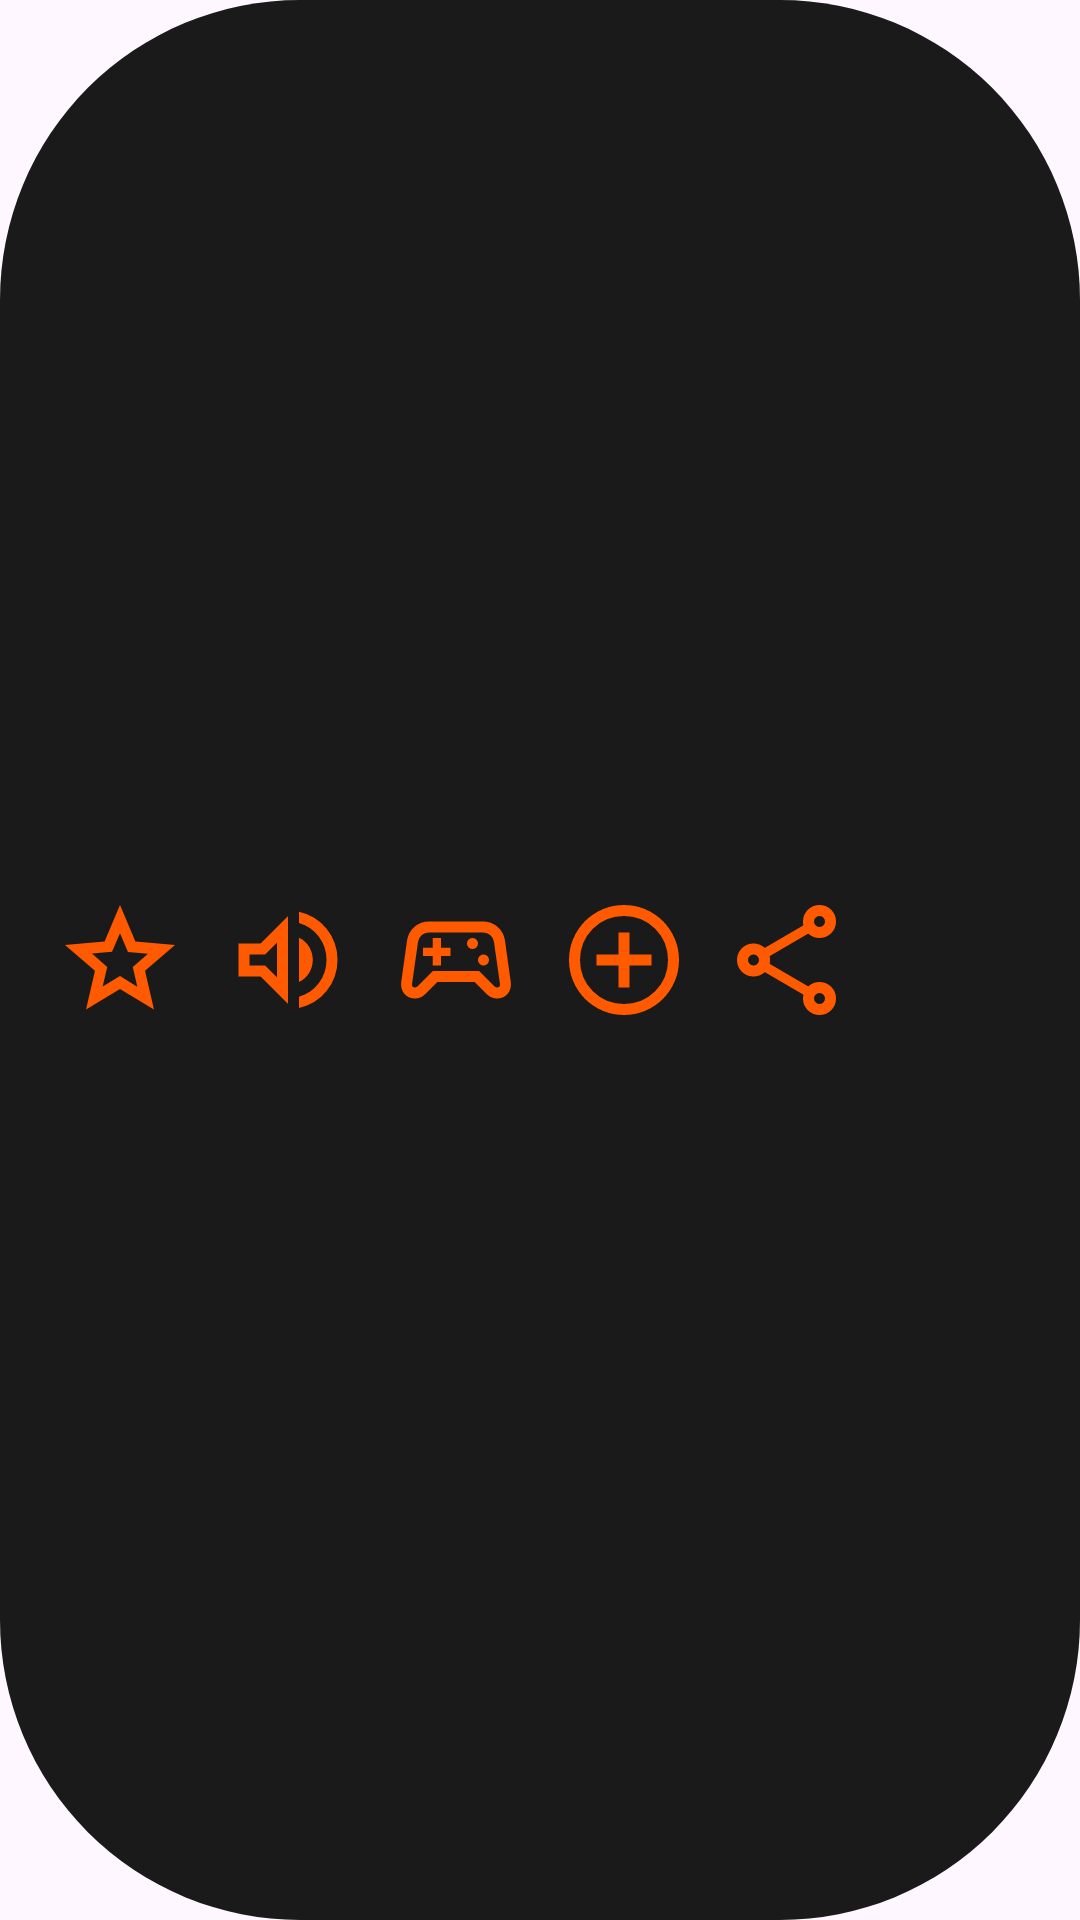

Where icons sit on this 1080×1920 app screen, as BBox(x1, y1, x2, y2):
Audio: BBox(238, 911, 338, 1008)
Compartir: BBox(737, 905, 836, 1015)
